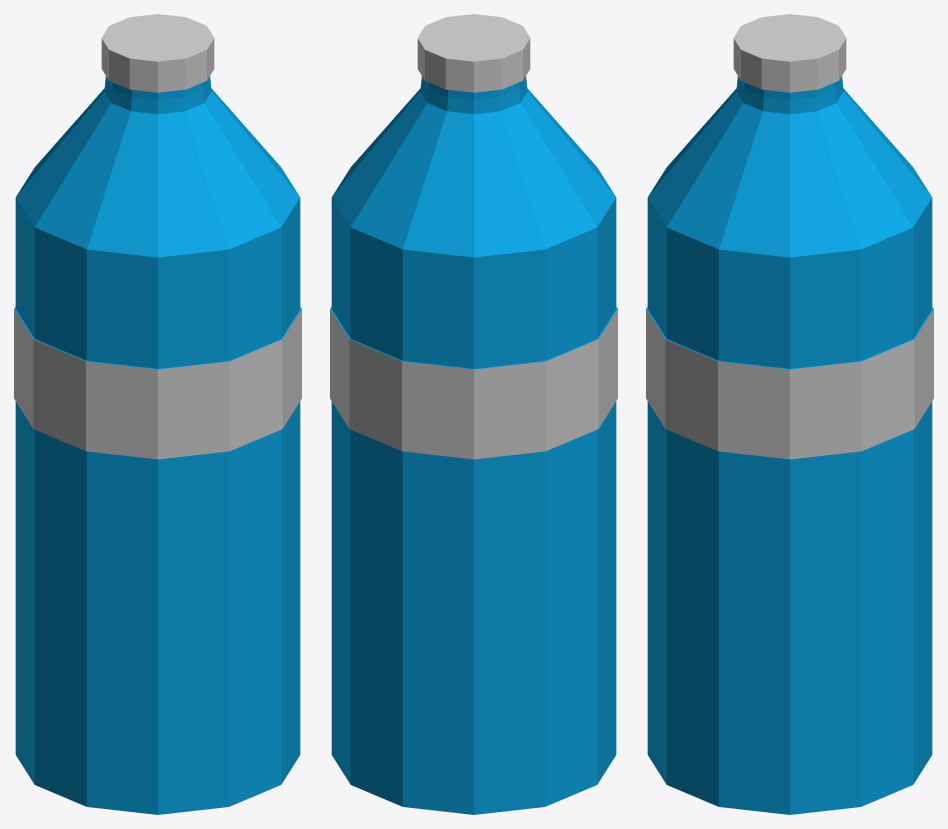
Rendered from bottle.fbx.
The picture shows the model from 3 angles, left to right: view 1: azimuth 30°, elevation 25°; view 2: azimuth 150°, elevation 25°; view 3: azimuth 270°, elevation 25°; orthographic projection.
Visible parts, largest first — view 1: Cylinder; view 2: Cylinder; view 3: Cylinder.
Part boxes in pixels (x1,y1,x2,y2): Cylinder: [14, 14, 301, 814]; Cylinder: [330, 14, 617, 814]; Cylinder: [646, 14, 933, 814].
Bounding box in the file's own units: 53.82 × 148 × 53.82.
